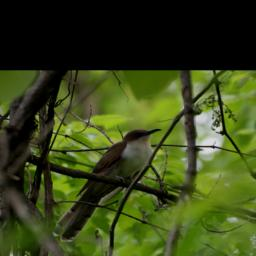Cuckoo: (52, 126, 163, 243)
